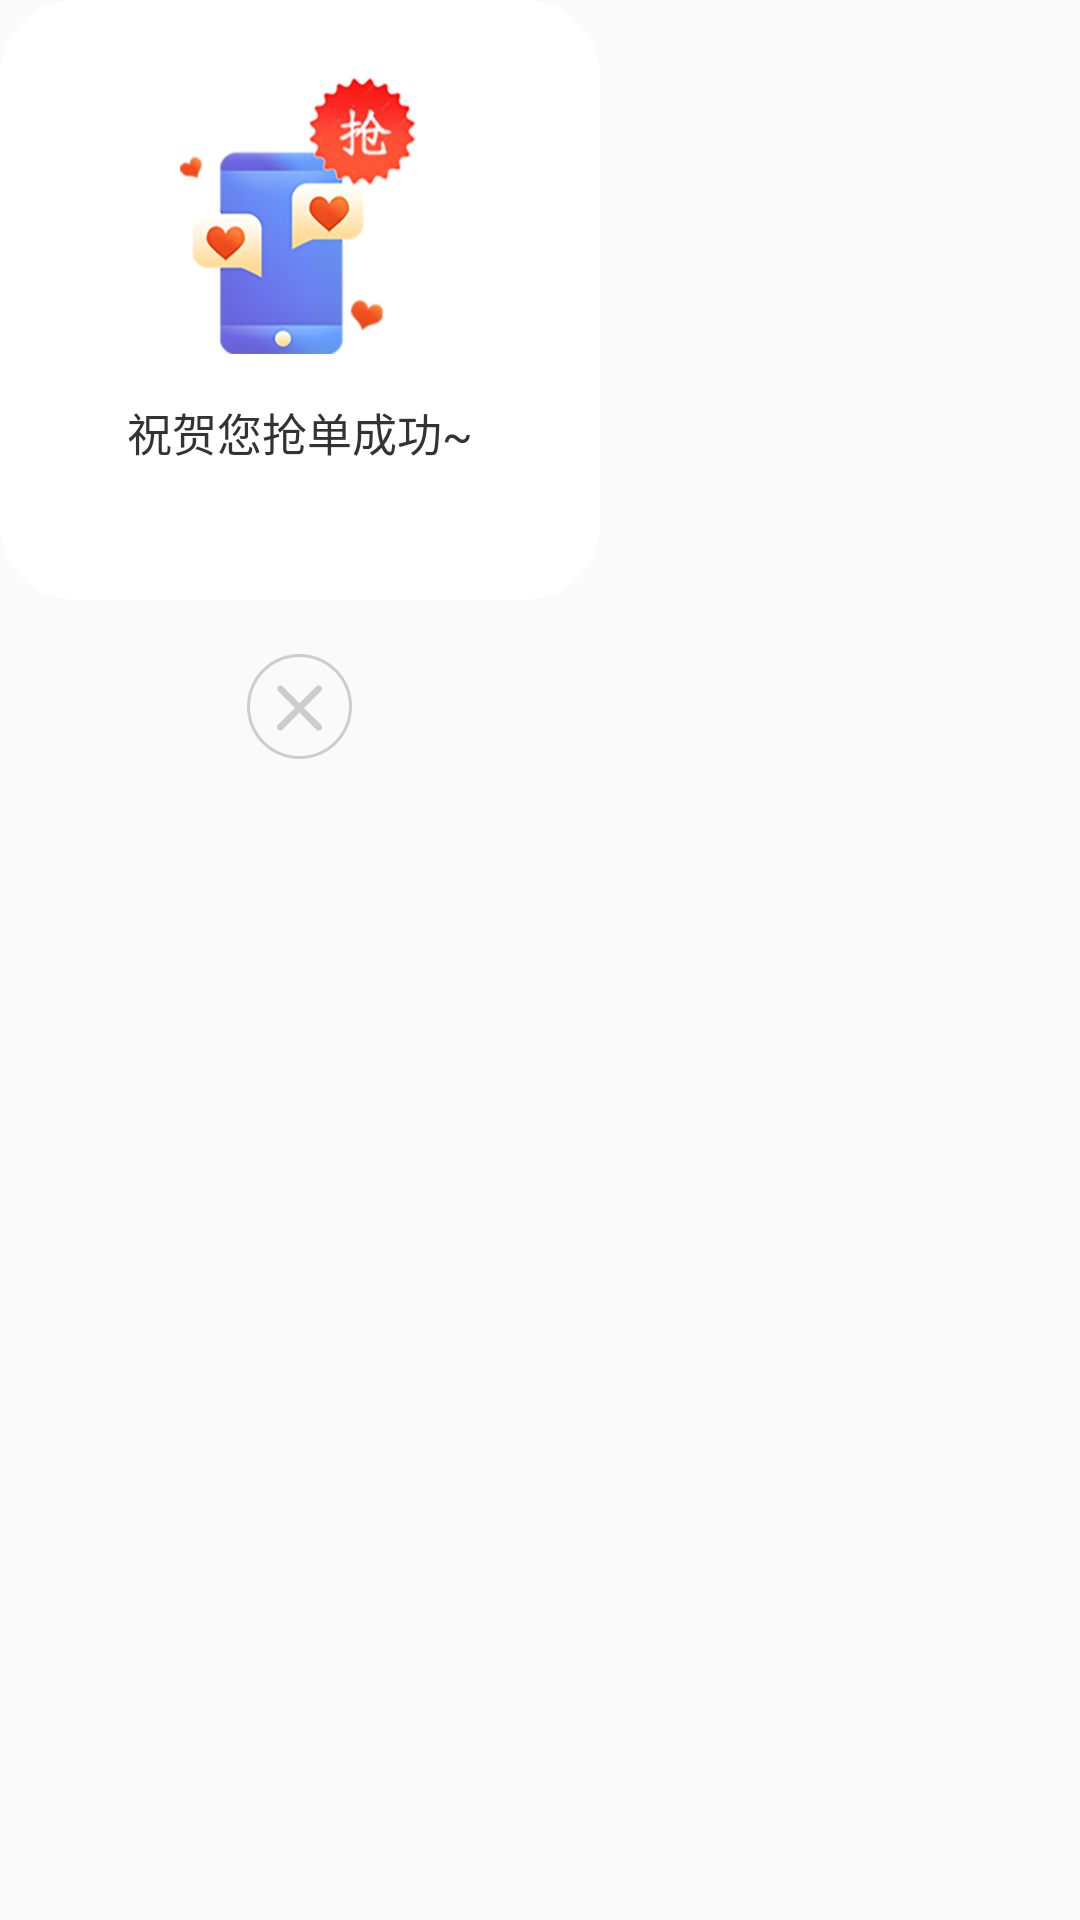

Icons on this 1080px x 1920px Android screen, each with the point to tap as [x,y]:
cha: [299,706]
